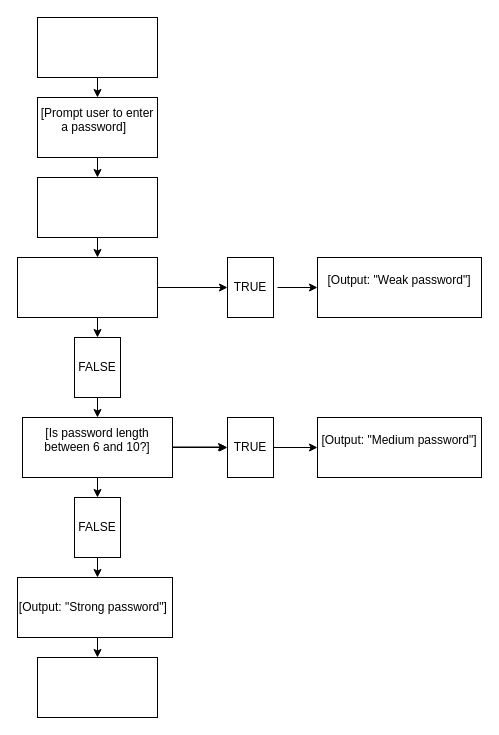
This 499x735 diagram has some shape labels left out. Here are the shapes that lost their labels. From the top down, the box of each, then its label:
(36, 16, 158, 78): START
(36, 176, 158, 238): [Read user input]
(16, 256, 158, 318): [Is password length < 6?]
(36, 656, 158, 718): END
